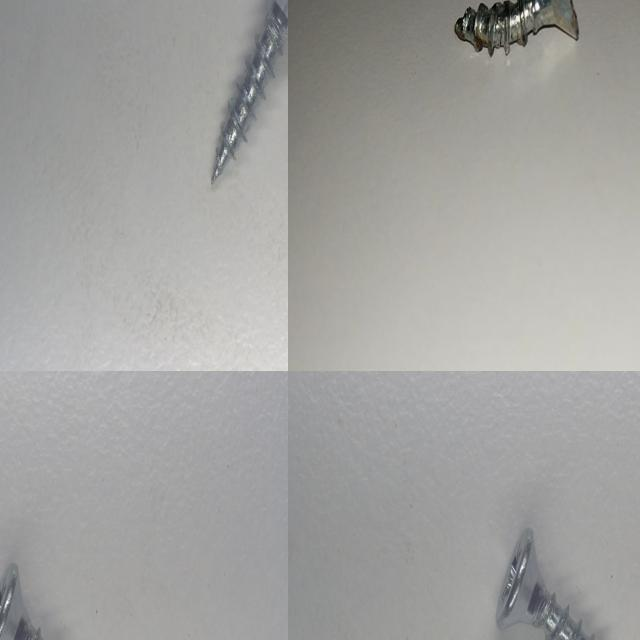Screw: (211, 0, 288, 183), (496, 526, 595, 640), (454, 0, 578, 55), (0, 561, 45, 640)
